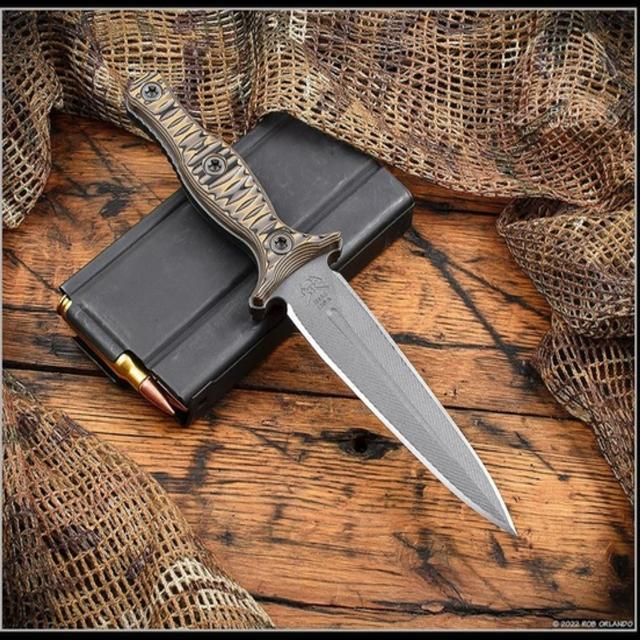short sword: (121, 49, 524, 534)
